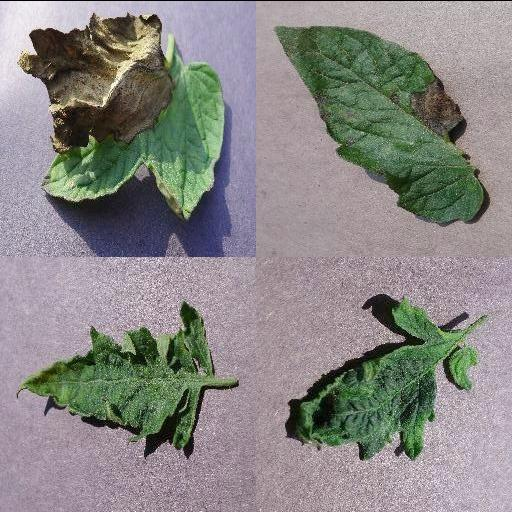Late Blight: (16, 11, 226, 225), (271, 24, 485, 224)
Mosaic Virus: (293, 290, 479, 460), (15, 298, 215, 448)
